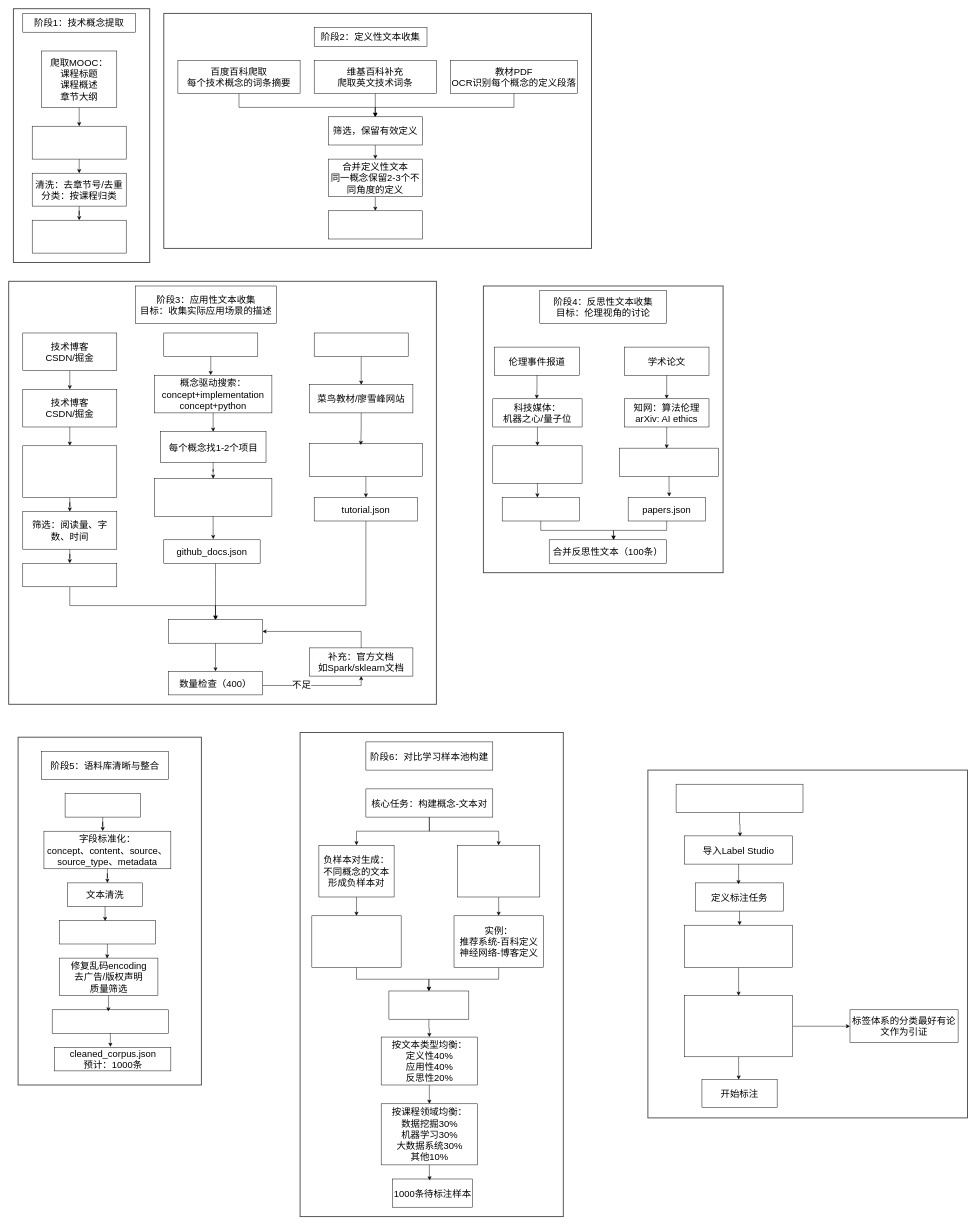
Some shapes in this 976 by 1225 pixel diagram are drawn without their labels. The centre of each missing label's shape, as x and y in pixels:
blog_articles.json: (x=69, y=575)
github项目文档: (x=210, y=344)
news.json: (x=540, y=509)
从大纲提取章节标题: (x=79, y=142)
关键词： 算法偏见事件 数据泄露案例: (x=537, y=464)
分层采样策略: (x=428, y=1005)
去html/Markdown标签: (x=107, y=932)
去重：cosine相似度＞0.85: (x=110, y=1021)
合并应用性文本: (x=215, y=631)
在线教材（补充）: (x=361, y=344)
实例： 推荐系统-百科定义 神经网络-百科定义: (x=356, y=941)
提取：摘要+案例段落: (x=668, y=462)
搜索策略： 概念名+原理 概念名+实战 概念名+案例: (x=69, y=471)
数量是否达到400条: (x=375, y=224)
标注目标： 为每个概念-文本对 标注1-3个伦理标签: (x=738, y=946)
标签体系： 算法偏见/数据隐私/ 用户操纵/信息茧房/ 算法透明性/数据安全/ 技术滥用/无伦理问题: (x=738, y=1026)
正样本对生成： 同一概念的多个定义形成正样本对: (x=498, y=871)
爬取： README+docs首页+ tutorial页面: (x=213, y=497)
统一json格式: (x=102, y=805)
输出：200个技术概念: (x=79, y=236)
针对缺少博客的概念补充: (x=365, y=459)
阶段7：人工标注: (x=739, y=798)
